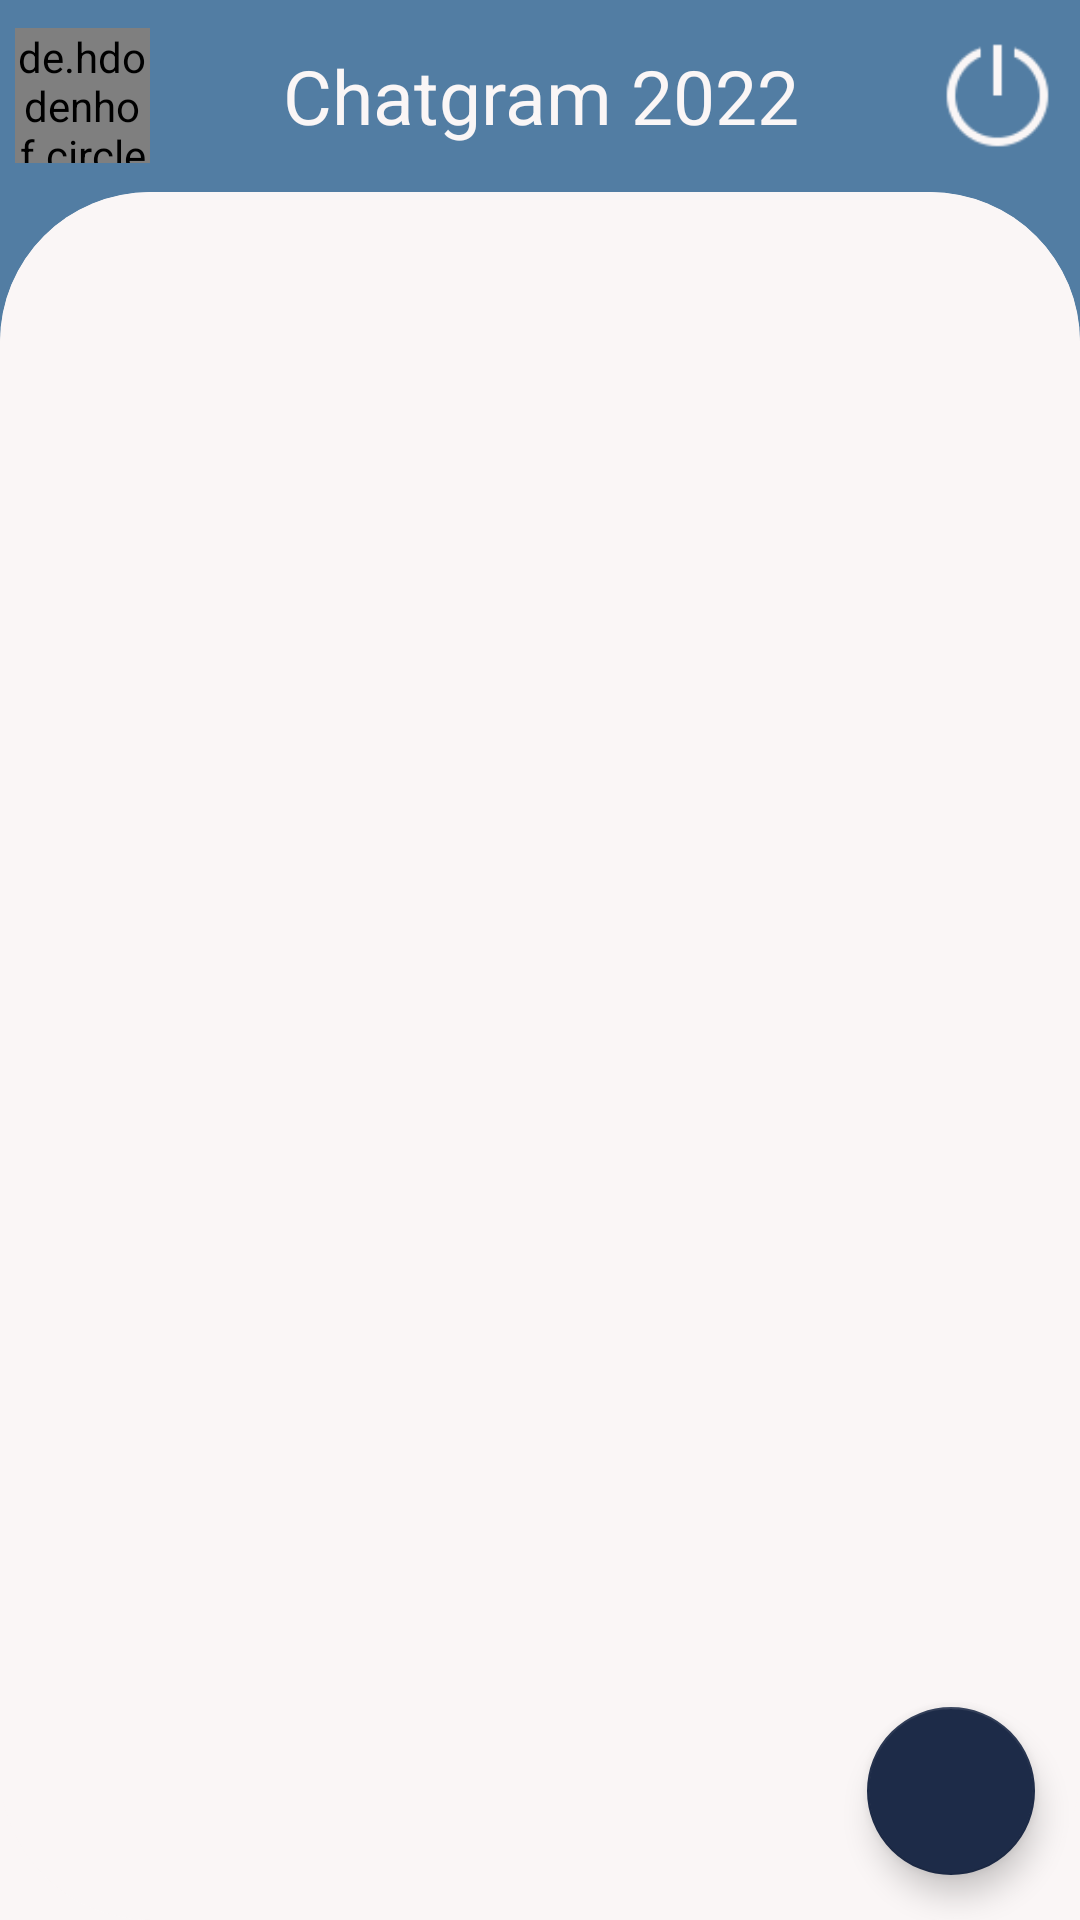

Icons on this 1080px x 1920px Android screen, each with its box as (x1, y1, x2, y2):
shutdown: (946, 44, 1049, 147)
